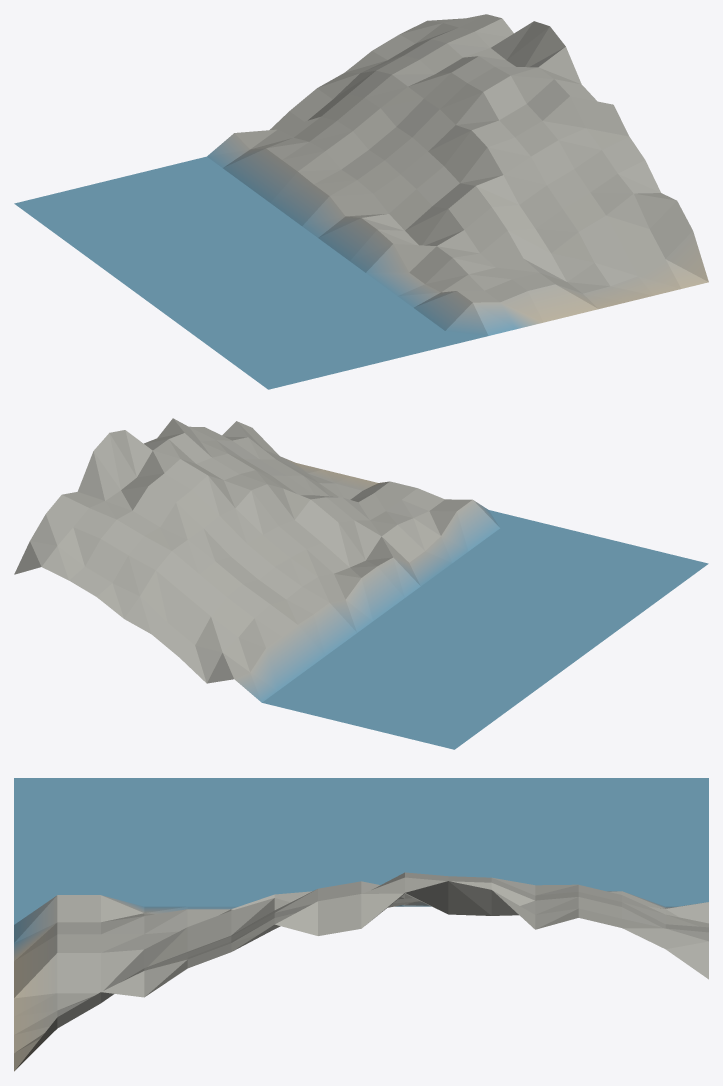
The picture shows the model from 3 angles, top to bottom: view 1: azimuth 30°, elevation 25°; view 2: azimuth 150°, elevation 25°; view 3: azimuth 270°, elevation 25°; orthographic projection. The views are drawn at different scales.
Size of the model in its own units: 32 by 9.69 by 32.
